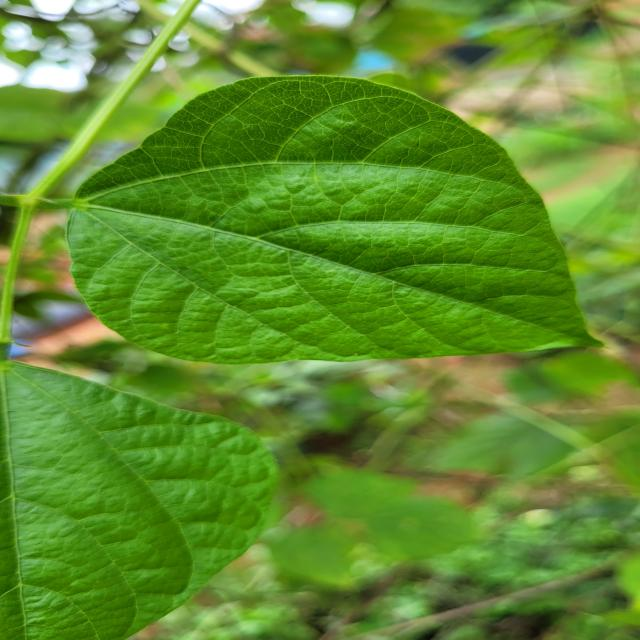Dolicos bean_healthy: (57, 70, 589, 368), (0, 346, 294, 640)
